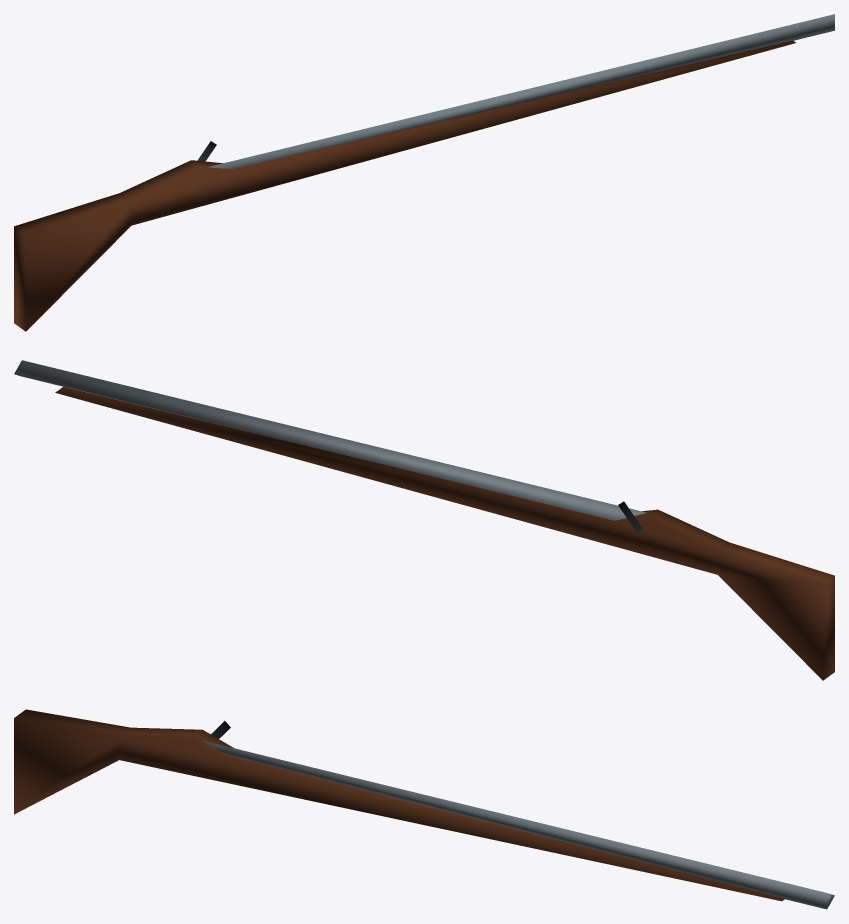
The model's file is flintlock_musket_lod2.glb.
The picture shows the model from 3 angles, top to bottom: view 1: azimuth 30°, elevation 25°; view 2: azimuth 150°, elevation 25°; view 3: azimuth 330°, elevation 25°; orthographic projection.
Parts seen in each view (by area): view 1: WeaponMesh.013; view 2: WeaponMesh.013; view 3: WeaponMesh.013.
Boxes of the visible parts, x1,y1,x2,y2 form: WeaponMesh.013: [14, 14, 834, 331]; WeaponMesh.013: [14, 360, 834, 680]; WeaponMesh.013: [14, 709, 834, 909].
Size of the model in its own units: 2.04 by 0.3185 by 0.058.
